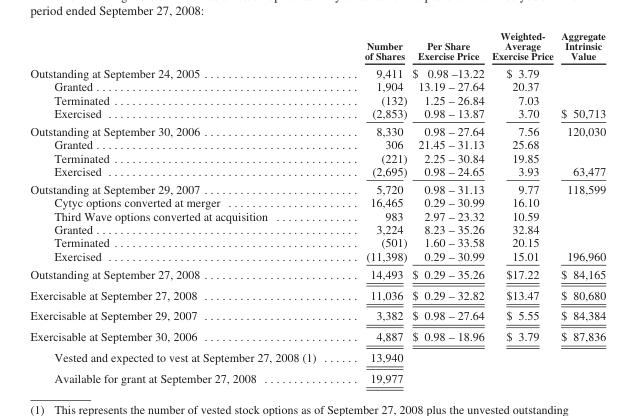table: (29, 29, 605, 384)
table column: (29, 29, 339, 384), (409, 29, 487, 384), (339, 29, 409, 384), (487, 29, 556, 384), (556, 29, 605, 384)
table column header: (29, 29, 605, 63)
table row: (29, 29, 605, 63), (29, 304, 605, 325), (29, 325, 605, 346), (29, 346, 605, 367), (29, 264, 605, 284), (29, 284, 605, 304), (29, 367, 605, 384), (29, 63, 605, 79), (29, 121, 605, 137), (29, 179, 605, 195), (29, 248, 605, 264), (29, 106, 605, 121), (29, 164, 605, 179), (29, 92, 605, 106), (29, 150, 605, 164), (29, 195, 605, 209), (29, 79, 605, 92), (29, 137, 605, 150), (29, 209, 605, 222), (29, 222, 605, 235), (29, 235, 605, 248)
